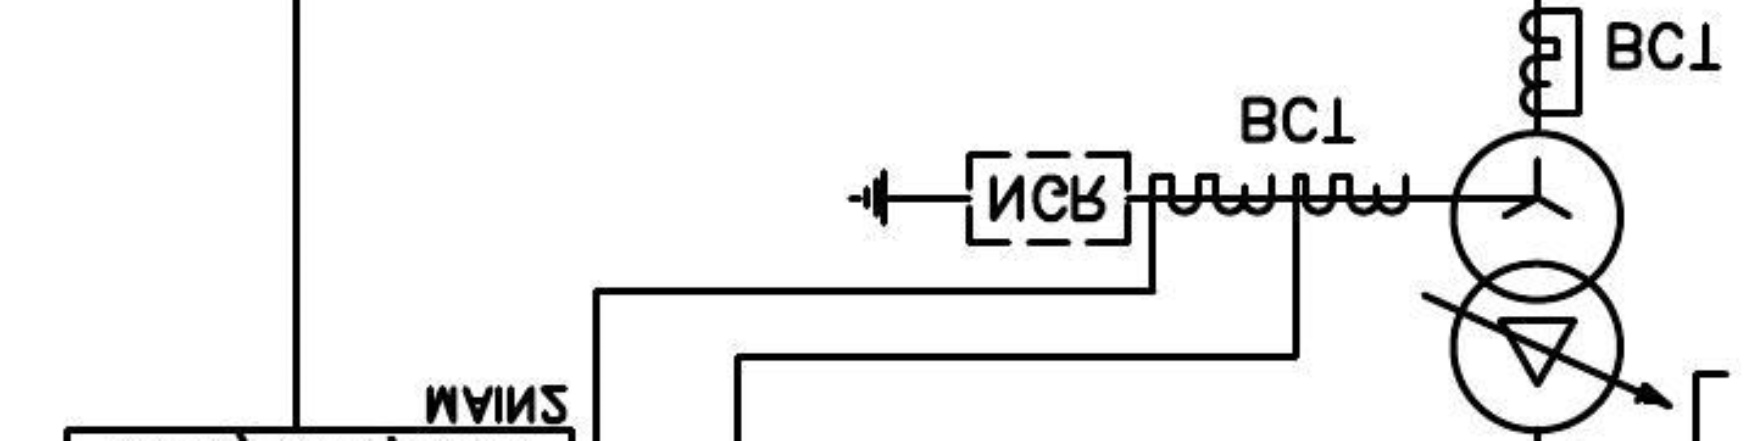11522_tx_dyn1: (1448, 127, 1627, 435)
NGR_future: (845, 149, 1132, 247)
